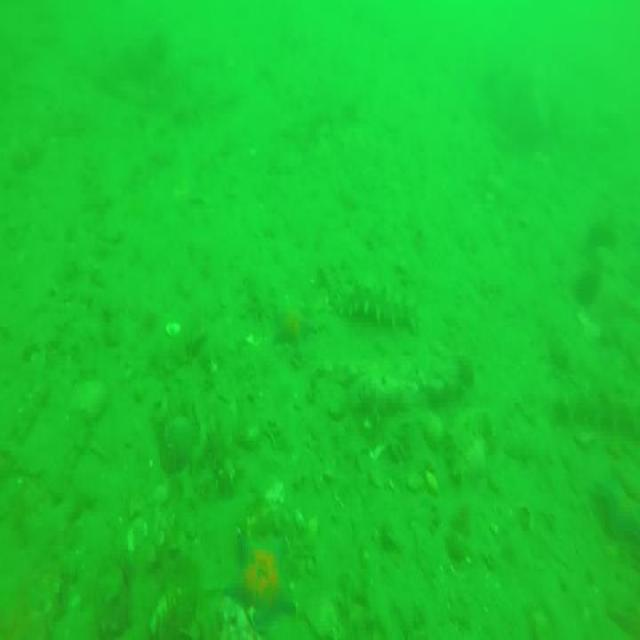holothurian: (326, 274, 418, 334), (567, 381, 640, 439)
scallop: (166, 319, 183, 342)
starfish: (221, 515, 299, 629), (593, 460, 640, 534)
